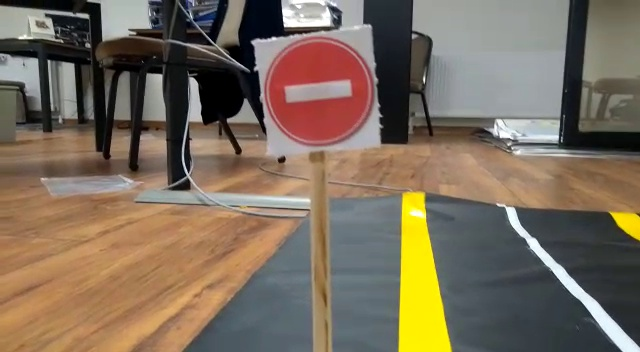girisi_olmayan_yol: (262, 36, 380, 148)
